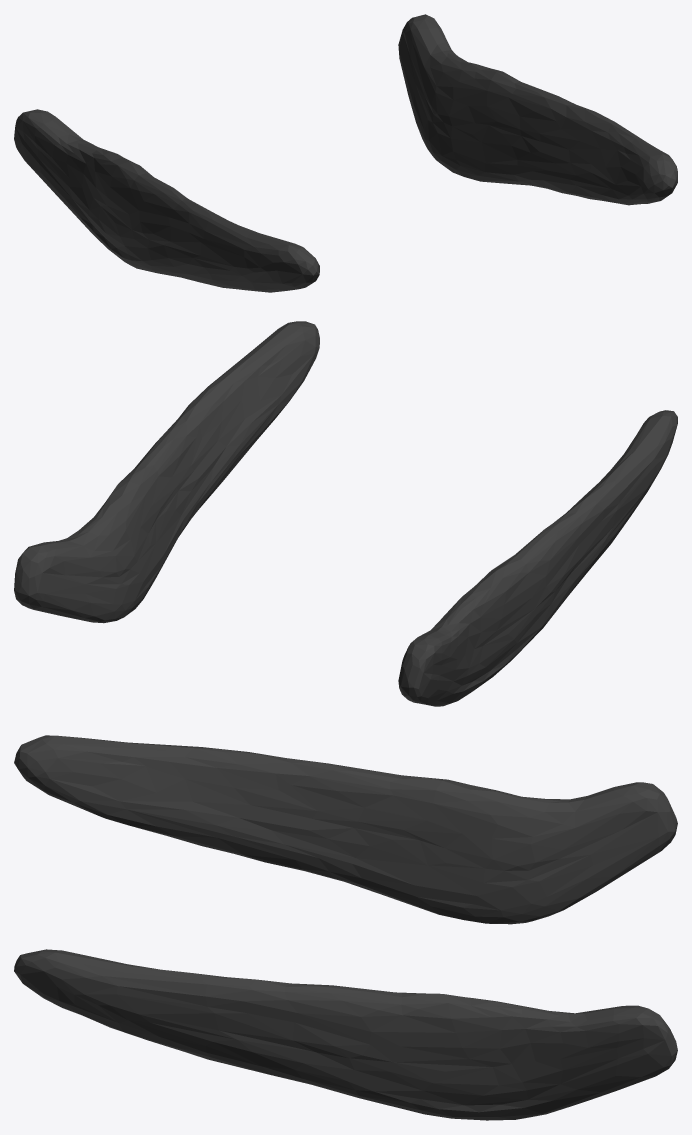
The model's file is m_caninus.glb.
3 views of the same model, one above another, from view 1: azimuth 30°, elevation 25°; view 2: azimuth 150°, elevation 25°; view 3: azimuth 270°, elevation 25° (orthographic). The views are drawn at different scales.
Visible parts, largest first — view 1: m_caninus; view 2: m_caninus; view 3: m_caninus.
Part boxes in pixels (x1,y1,x2,y2): m_caninus: (14,14,677,292); m_caninus: (14,321,677,706); m_caninus: (14,735,677,1120).
Bounding box in the file's own units: 0.00115 × 0.000391 × 0.00133.
1 material, 1 textured.
